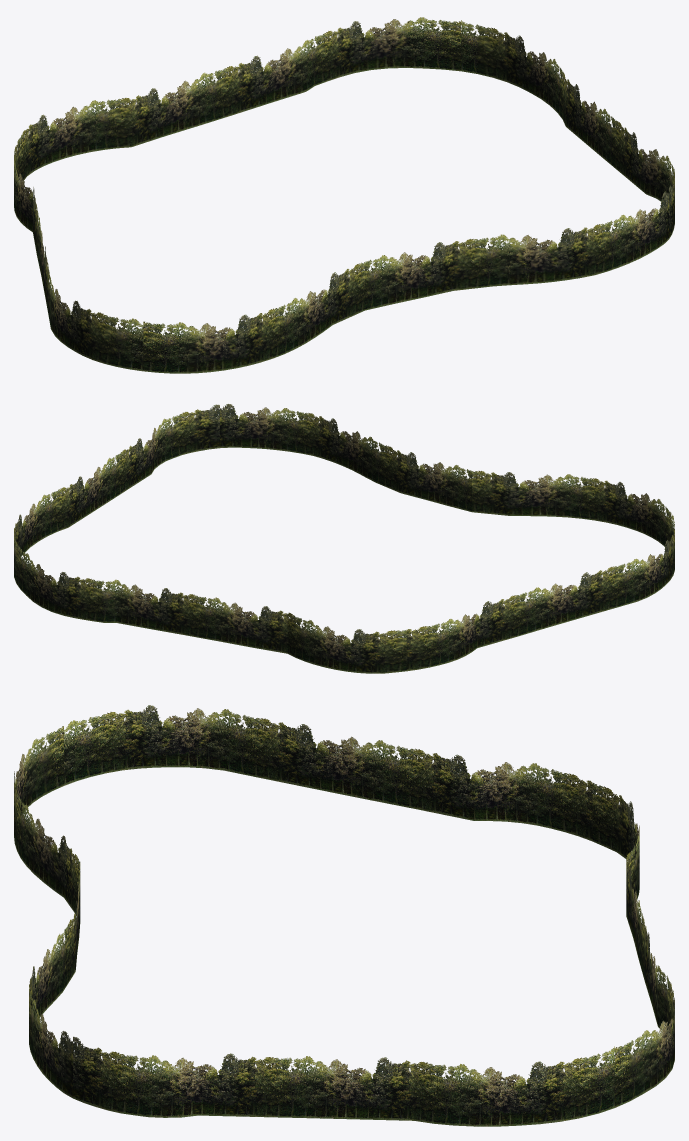
The picture shows the model from 3 angles, top to bottom: view 1: azimuth 30°, elevation 25°; view 2: azimuth 150°, elevation 25°; view 3: azimuth 270°, elevation 25°; orthographic projection. The views are drawn at different scales.
Parts seen in each view (by area): view 1: TREEWALL; view 2: TREEWALL; view 3: TREEWALL.
Boxes of the visible parts, x1=… form: TREEWALL: x1=14, y1=17, x2=674, y2=373; TREEWALL: x1=14, y1=404, x2=674, y2=673; TREEWALL: x1=14, y1=705, x2=674, y2=1126.
Size of the model in its own units: 27596 by 2324 by 21448.
1 material, 1 textured.
